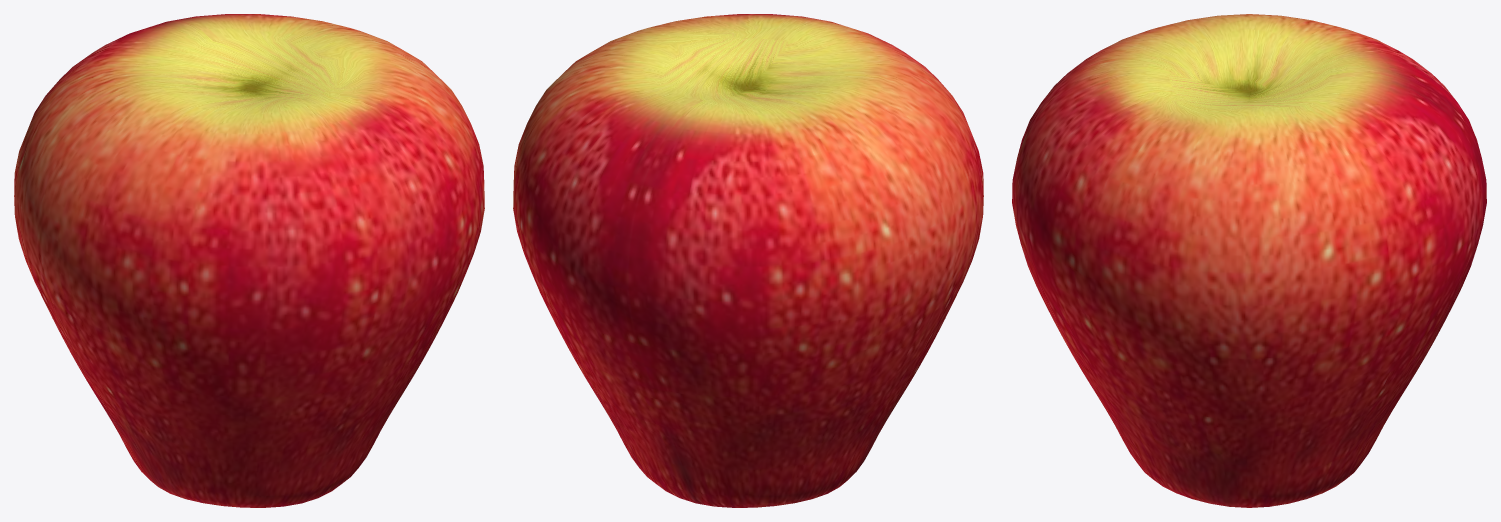
Rendered from apple.FBX.
3 renders of one model, left to right at view 1: azimuth 30°, elevation 25°; view 2: azimuth 150°, elevation 25°; view 3: azimuth 270°, elevation 25°, orthographic.
Visible parts, largest first — view 1: Box001; view 2: Box001; view 3: Box001.
Part boxes in pixels (x1,y1,x2,y2): Box001: (14, 14, 484, 507); Box001: (513, 14, 983, 507); Box001: (1012, 14, 1486, 507).
Size of the model in its own units: 17.79 by 16.49 by 17.79.
